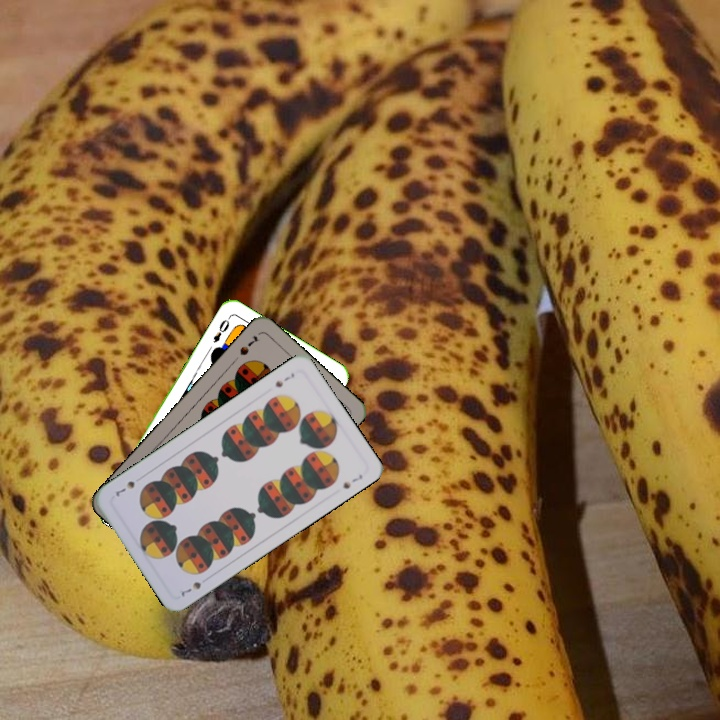EO: (209, 313, 233, 346)
S7: (236, 332, 262, 358), (177, 577, 204, 600), (271, 369, 297, 390)
